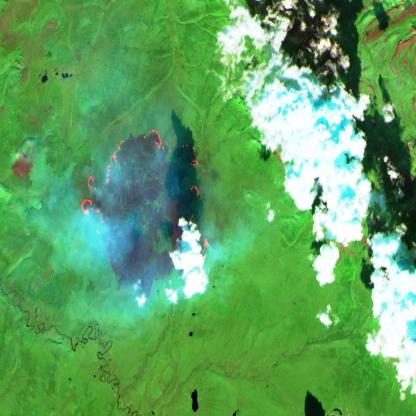fire: (80, 123, 211, 312)
